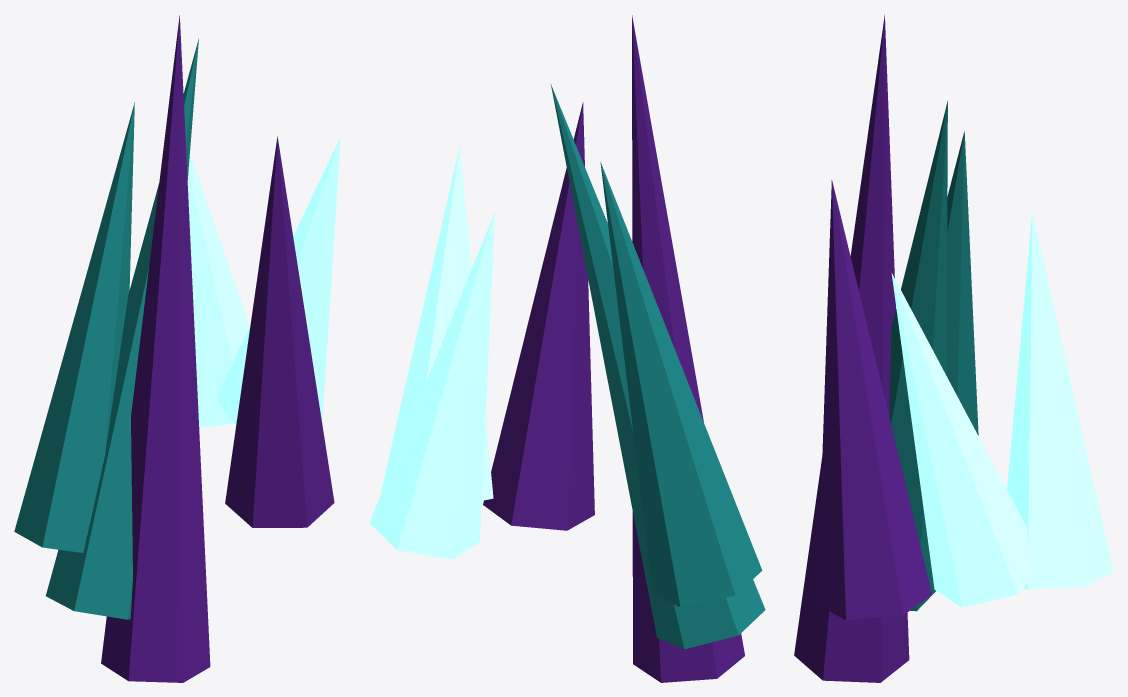
The model's file is Prop_OR_Crystal_19.glb.
3 views of the same model, side by side, from view 1: azimuth 30°, elevation 25°; view 2: azimuth 150°, elevation 25°; view 3: azimuth 270°, elevation 25° (orthographic). The views are drawn at different scales.
Parts seen in each view (by area): view 1: Prop_OR_Crystal_19; view 2: Prop_OR_Crystal_19; view 3: Prop_OR_Crystal_19.
Part boxes in pixels (x1,y1,x2,y2): Prop_OR_Crystal_19: (14, 15, 340, 682); Prop_OR_Crystal_19: (369, 15, 765, 682); Prop_OR_Crystal_19: (794, 14, 1113, 682).
Size of the model in its own units: 0.8274 by 1.6 by 0.6929.
